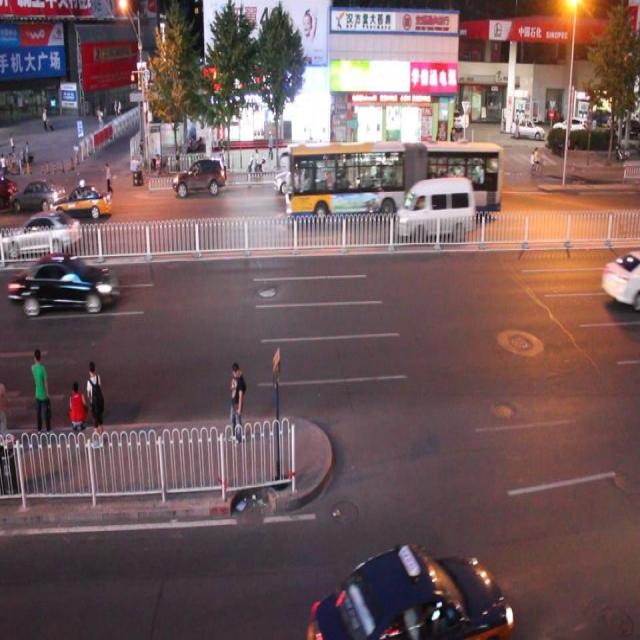car: (302, 541, 510, 640), (284, 140, 502, 220), (16, 252, 117, 311), (0, 208, 80, 254), (599, 244, 640, 308), (172, 156, 227, 197), (51, 184, 110, 219), (361, 159, 410, 197), (11, 178, 64, 210), (273, 159, 323, 192), (1, 170, 16, 213)
truck: (395, 176, 473, 239)
